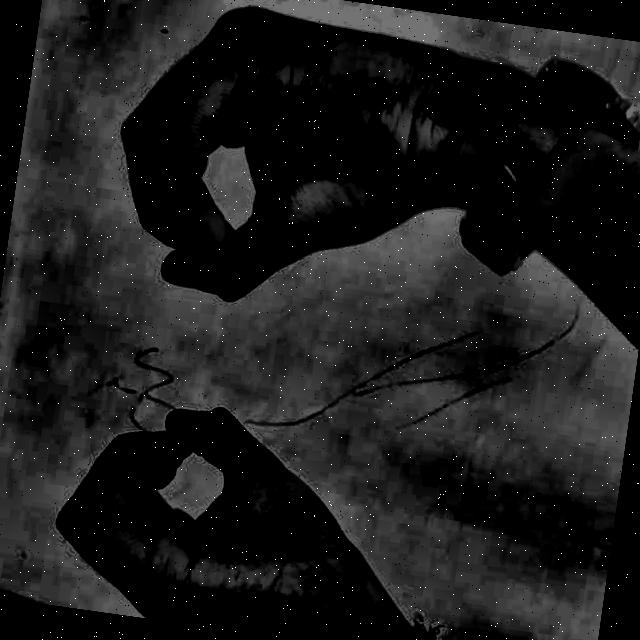Bisharga: (18, 0, 478, 640)
